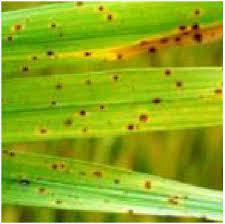Leaf Smut: (0, 65, 225, 150), (0, 146, 225, 224), (0, 0, 225, 61)
